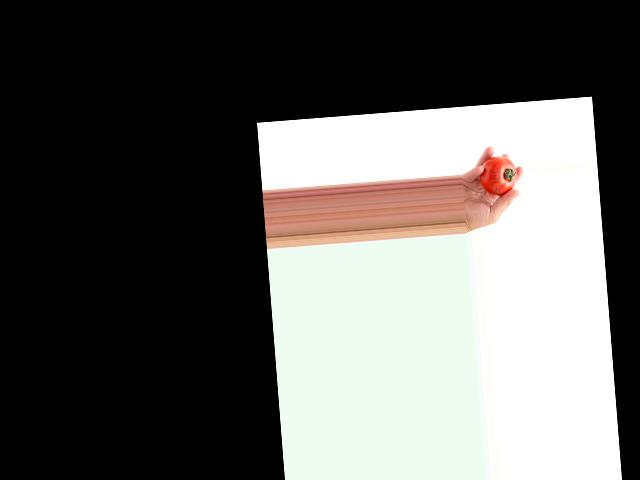tomato: (478, 154, 518, 196)
